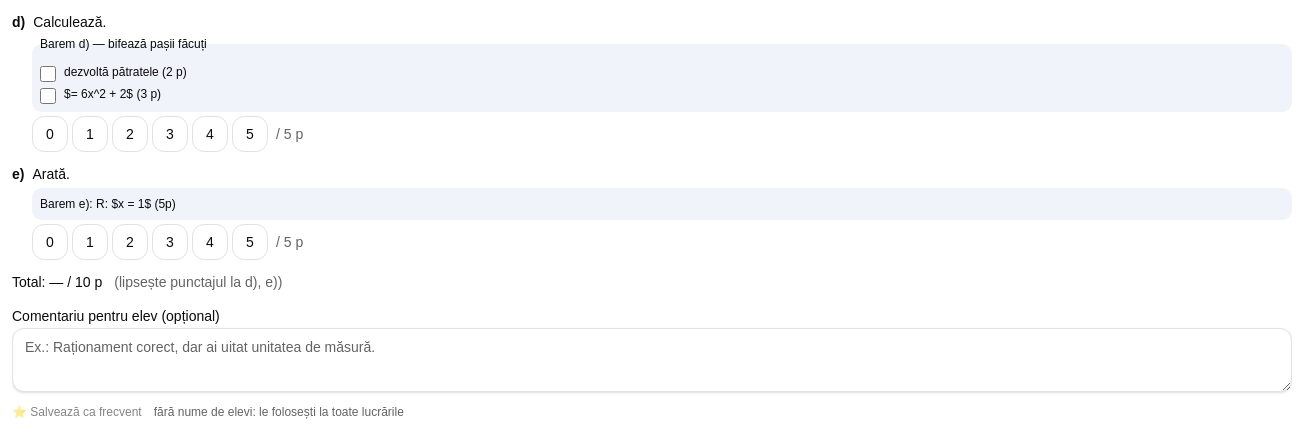
ItemGradeForm: barem steps with their own points › ticking a step gives its points; the other step stays unpaid
Click the checkbox named "pasul 1": (48, 74) [40,66,56,82]
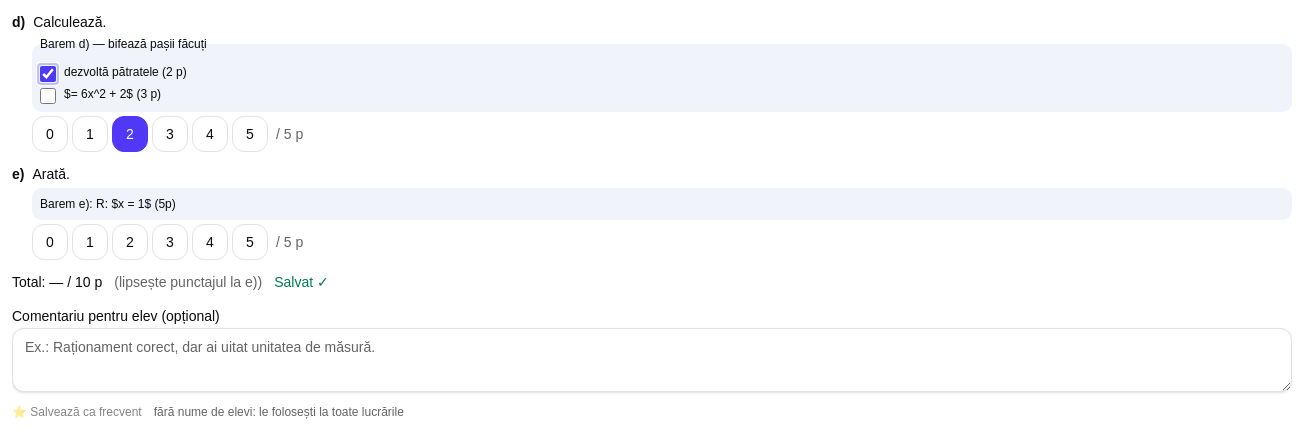
expect the checkbox named "pasul 2" is not checked: met, box [40,88,56,104]
expect the radio button labelled "2" below "$= 6x^2 + 2$" is checked: met, box [112,116,148,152]
